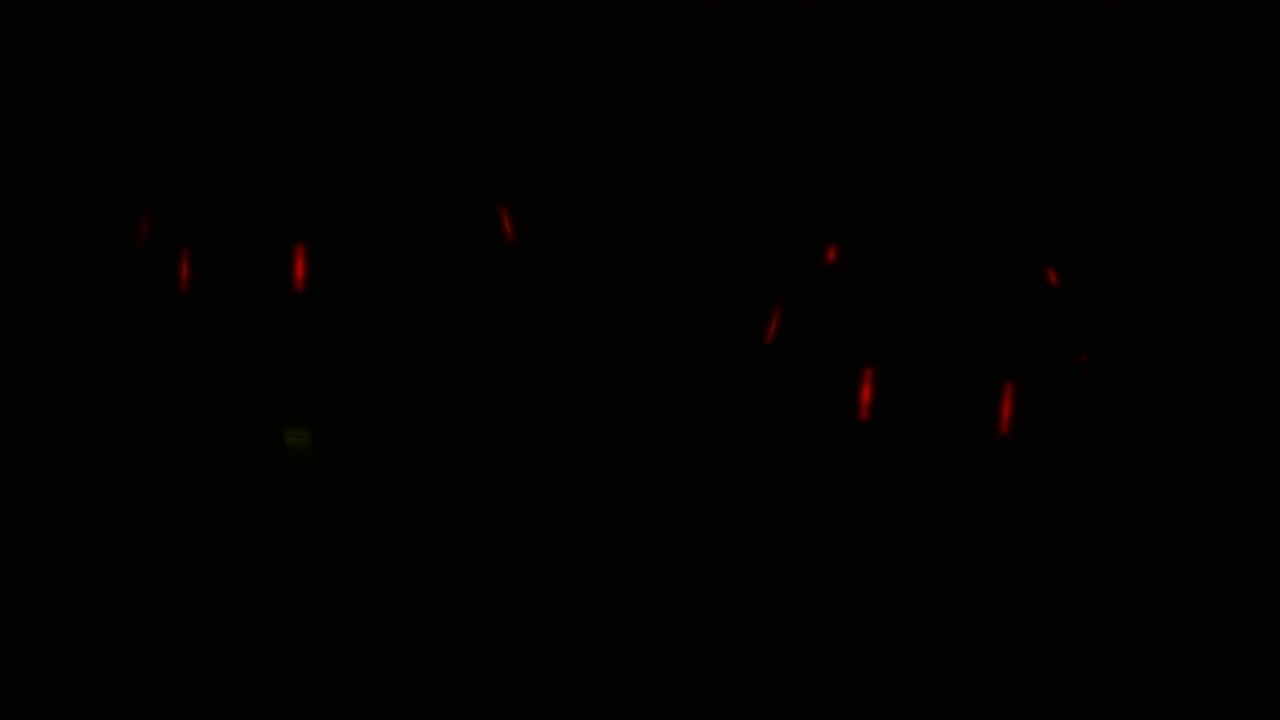pair1: (856, 372, 1018, 440), (171, 242, 310, 294)
